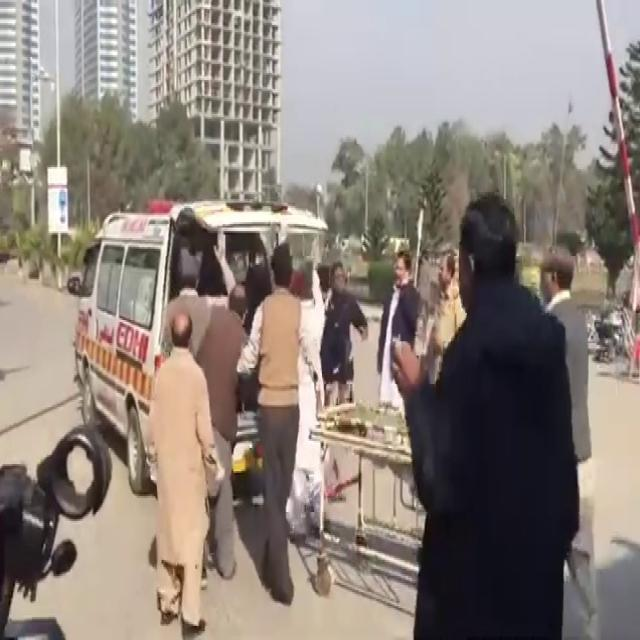ambulance: (74, 212, 318, 447)
